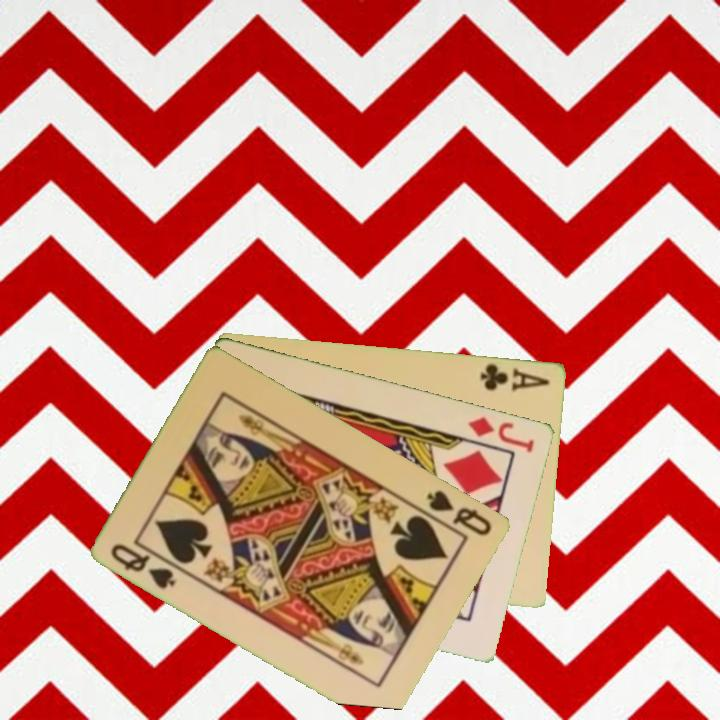Ac: (477, 360, 553, 394)
Jd: (465, 413, 538, 455)
Qs: (107, 539, 185, 592), (424, 486, 496, 539)
